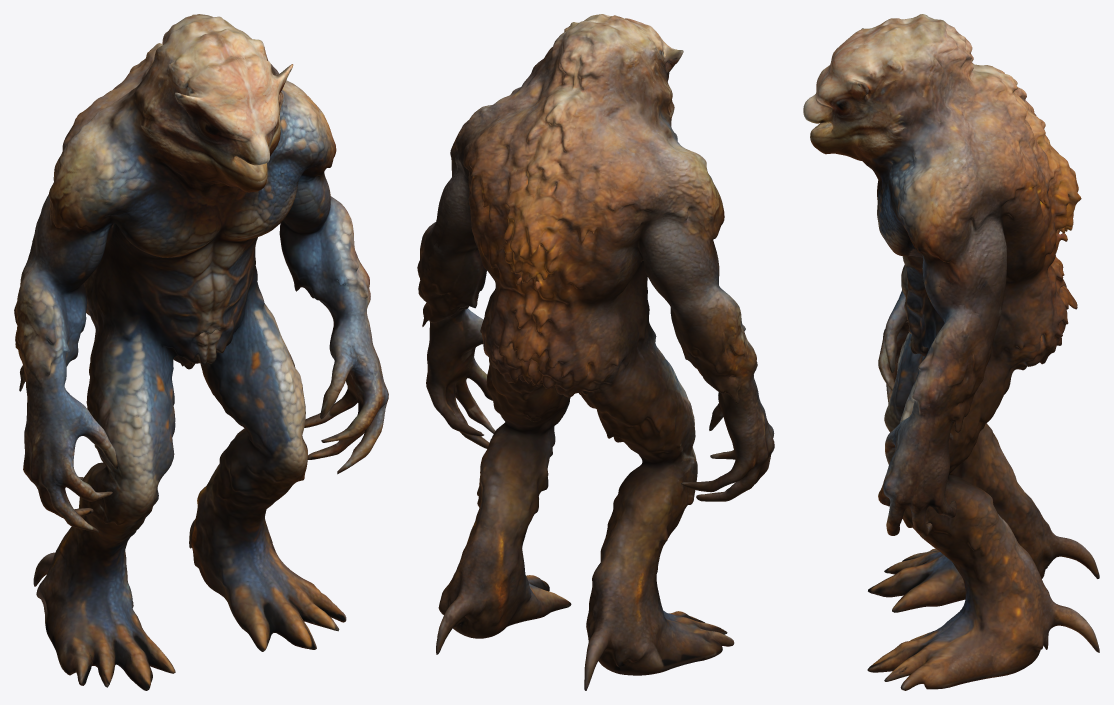
The model's file is Design_a_hyper_realis_0207171047_texture.fbx.
3 renders of one model, left to right at view 1: azimuth 30°, elevation 25°; view 2: azimuth 150°, elevation 25°; view 3: azimuth 270°, elevation 25°, orthographic. The views are drawn at different scales.
Parts seen in each view (by area): view 1: Mesh1_Mesh1.039; view 2: Mesh1_Mesh1.039; view 3: Mesh1_Mesh1.039.
Part boxes in pixels (x1,y1,x2,y2): Mesh1_Mesh1.039: [14, 14, 388, 690]; Mesh1_Mesh1.039: [417, 14, 774, 690]; Mesh1_Mesh1.039: [803, 14, 1099, 690].
Bounding box in the file's own units: 116 × 200 × 87.66.
1 material, 1 textured.
